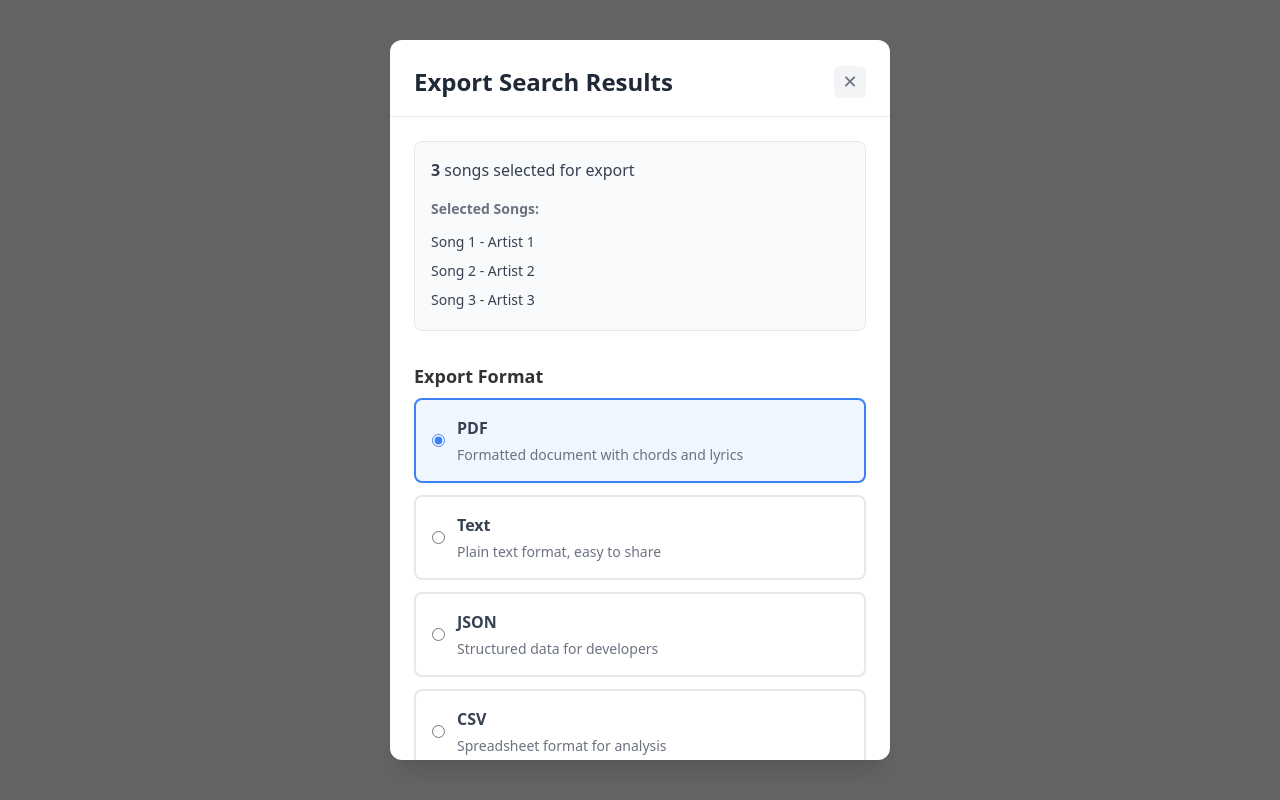
Test: ExportResultsModal › updates file extension when format changes
Click the radio button labelled "Text Plain text format, easy to share" at (438, 538), box [432,531,445,544]
(page scrolled)
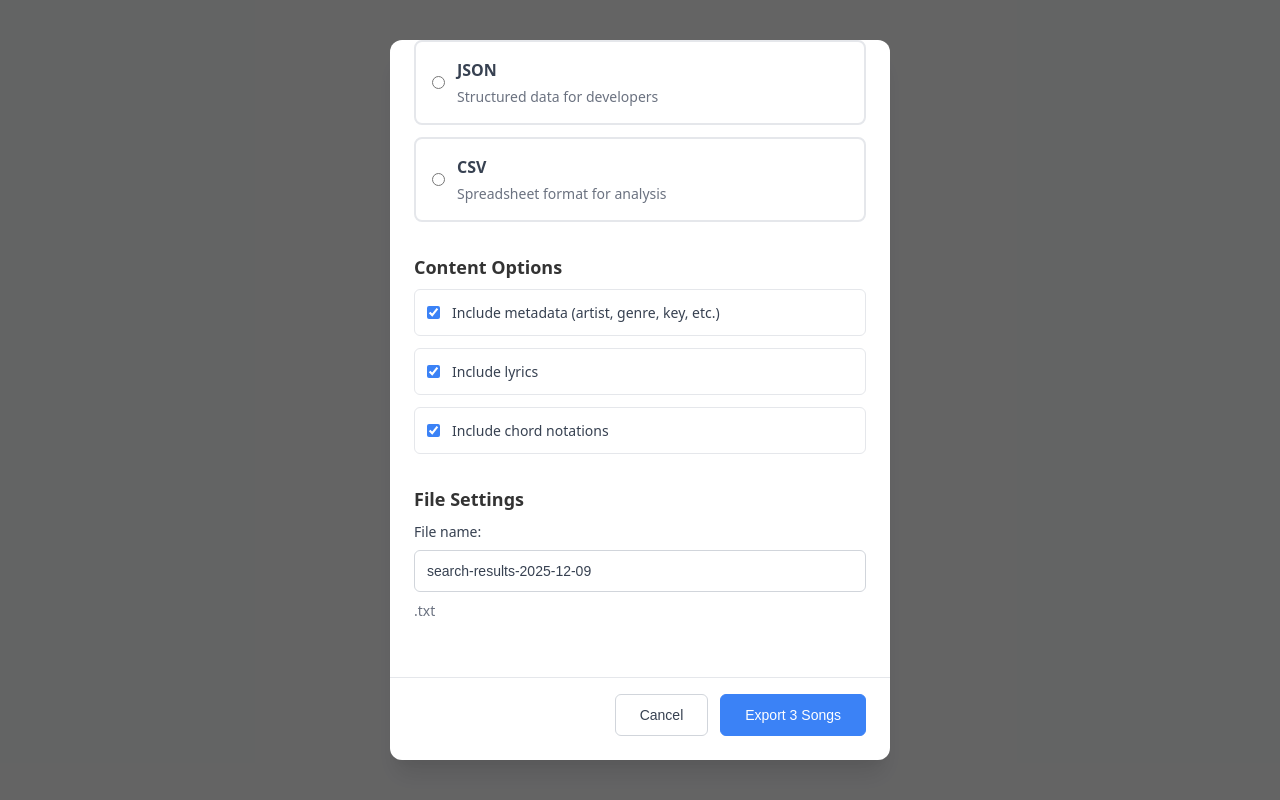
Now the text ".txt" is shown, box [414,601,435,620]
